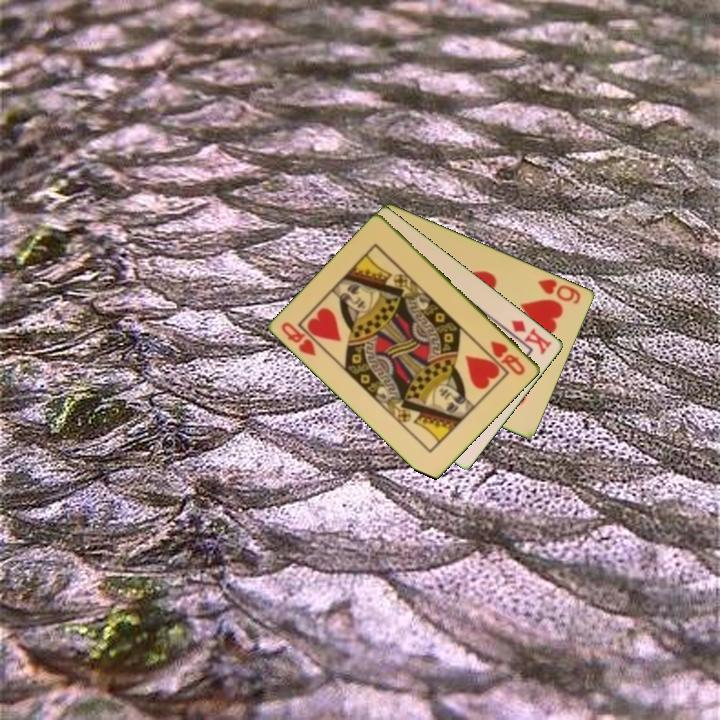6h: (535, 275, 584, 307)
Kd: (508, 316, 555, 358)
Qh: (278, 318, 320, 359), (487, 337, 528, 378)
